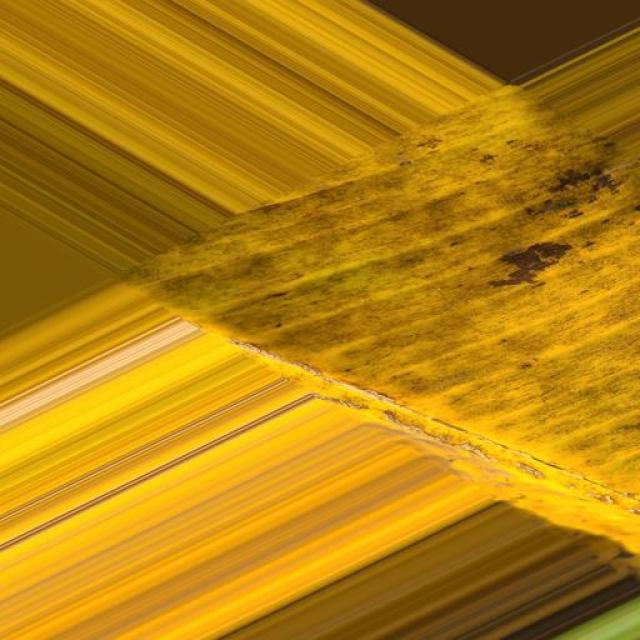Cordana: (24, 6, 640, 582)
